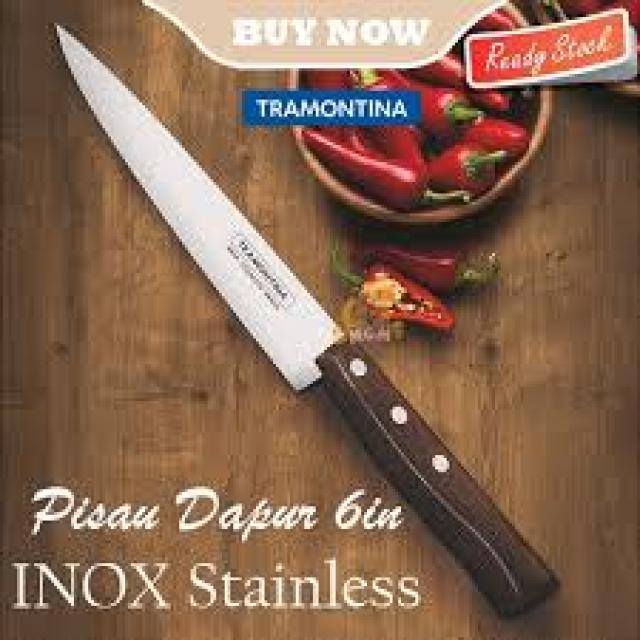Knife: (57, 23, 555, 612)
